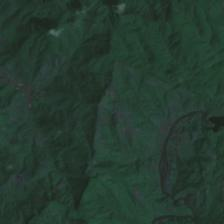landslides: (202, 100, 211, 116)
